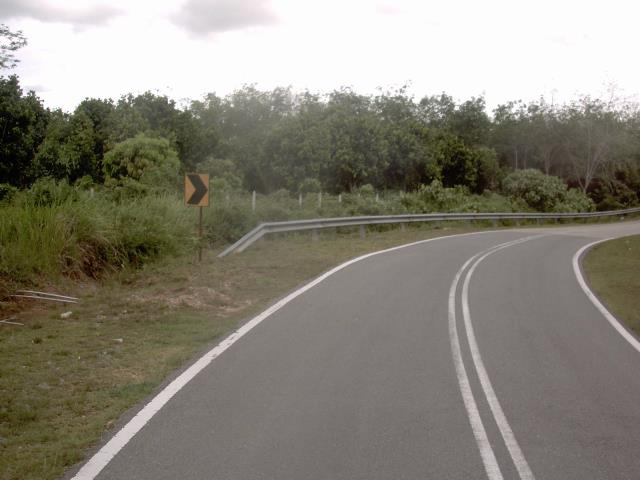traffic_sign: (177, 165, 216, 214)
